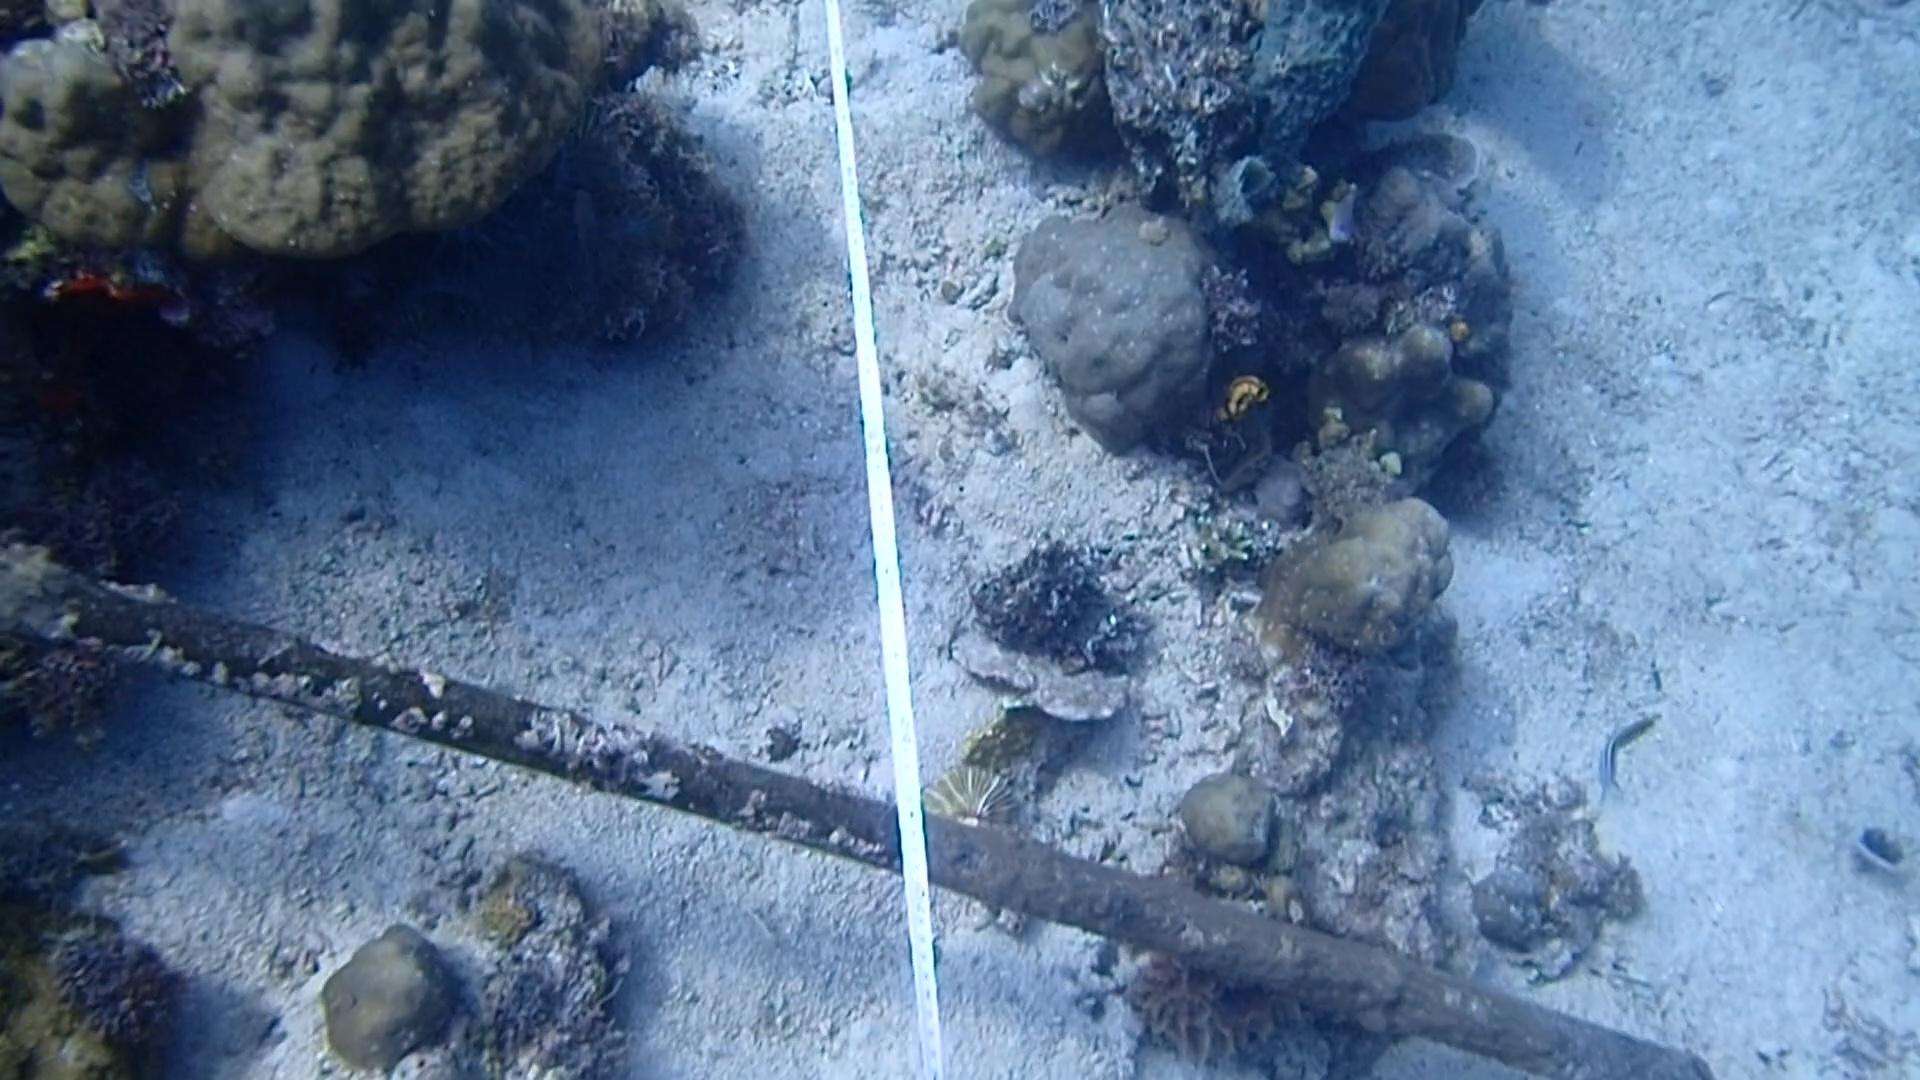Blue Nose Fish: (1317, 174, 1373, 262)
Dark Fish: (556, 173, 615, 294)
Striped Fish: (1576, 703, 1663, 810)
